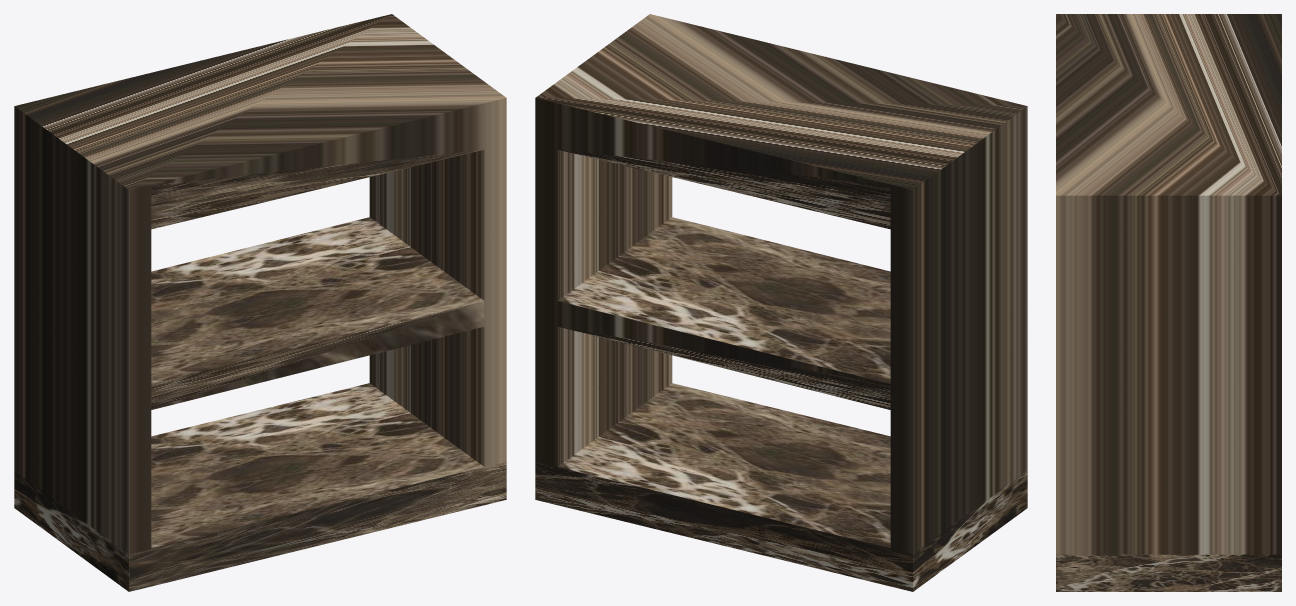
The model's file is Nochero.fbx.
The picture shows the model from 3 angles, left to right: view 1: azimuth 30°, elevation 25°; view 2: azimuth 150°, elevation 25°; view 3: azimuth 270°, elevation 25°; orthographic projection.
Visible parts, largest first — view 1: Cube.006; view 2: Cube.006; view 3: Cube.006.
Part boxes in pixels (box(x1,y1,x2,y2)): Cube.006: box(14, 14, 506, 591); Cube.006: box(535, 14, 1027, 591); Cube.006: box(1056, 14, 1281, 591).
Size of the model in its own units: 3.81 by 3.87 by 2.
1 material, 1 textured.
